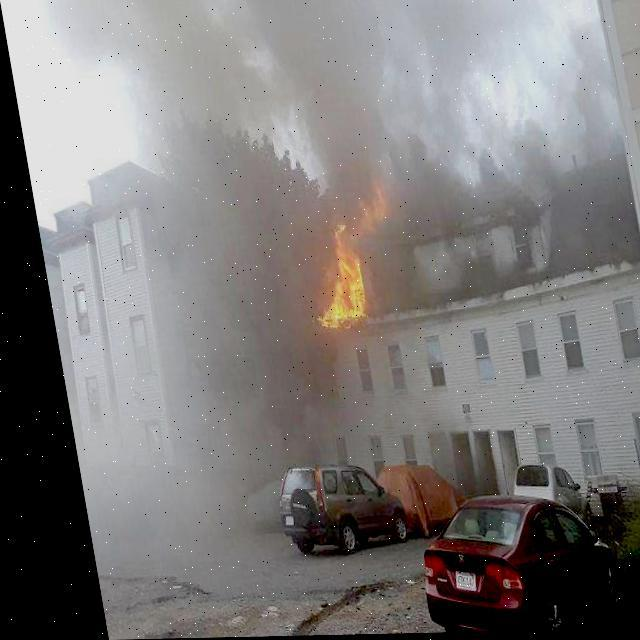Fire: (286, 190, 396, 328)
